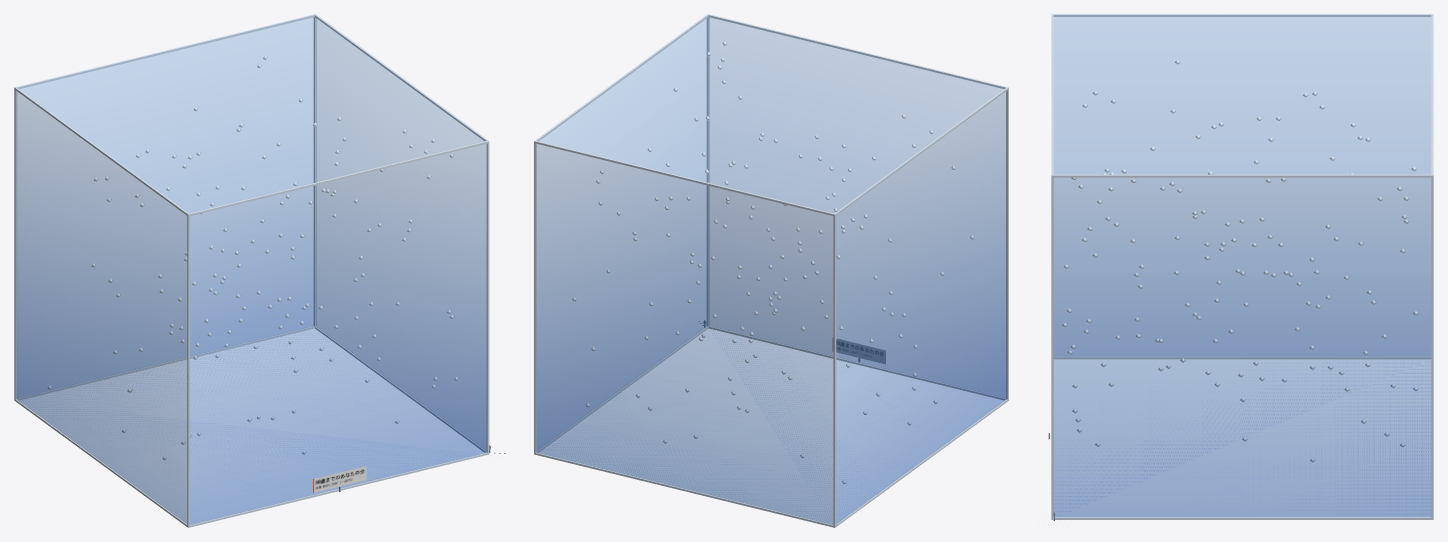
The model's file is cube_life_80.glb.
The picture shows the model from 3 angles, left to right: view 1: azimuth 30°, elevation 25°; view 2: azimuth 150°, elevation 25°; view 3: azimuth 270°, elevation 25°; orthographic projection. The views are drawn at different scales.
Parts seen in each view (by area): view 1: co2, edge, dots, label; view 2: co2, edge, dots, label; view 3: co2, edge, dots.
Boxes of the visible parts, x1,y1,x2,y2 form: co2: [16, 15, 486, 524]; edge: [14, 14, 489, 527]; dots: [48, 55, 458, 460]; label: [313, 466, 366, 492]; co2: [536, 15, 1006, 524]; edge: [534, 14, 1008, 527]; dots: [572, 41, 974, 484]; label: [836, 339, 885, 363]; co2: [1053, 15, 1431, 516]; edge: [1051, 14, 1433, 519]; dots: [1062, 59, 1418, 462].
Bounding box in the file's own units: 70.8 × 67.04 × 69.9.
Materials: 8 (3 with a texture image).
